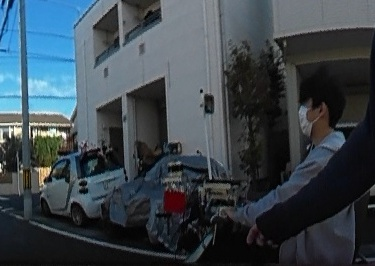person: (267, 72, 357, 266)
